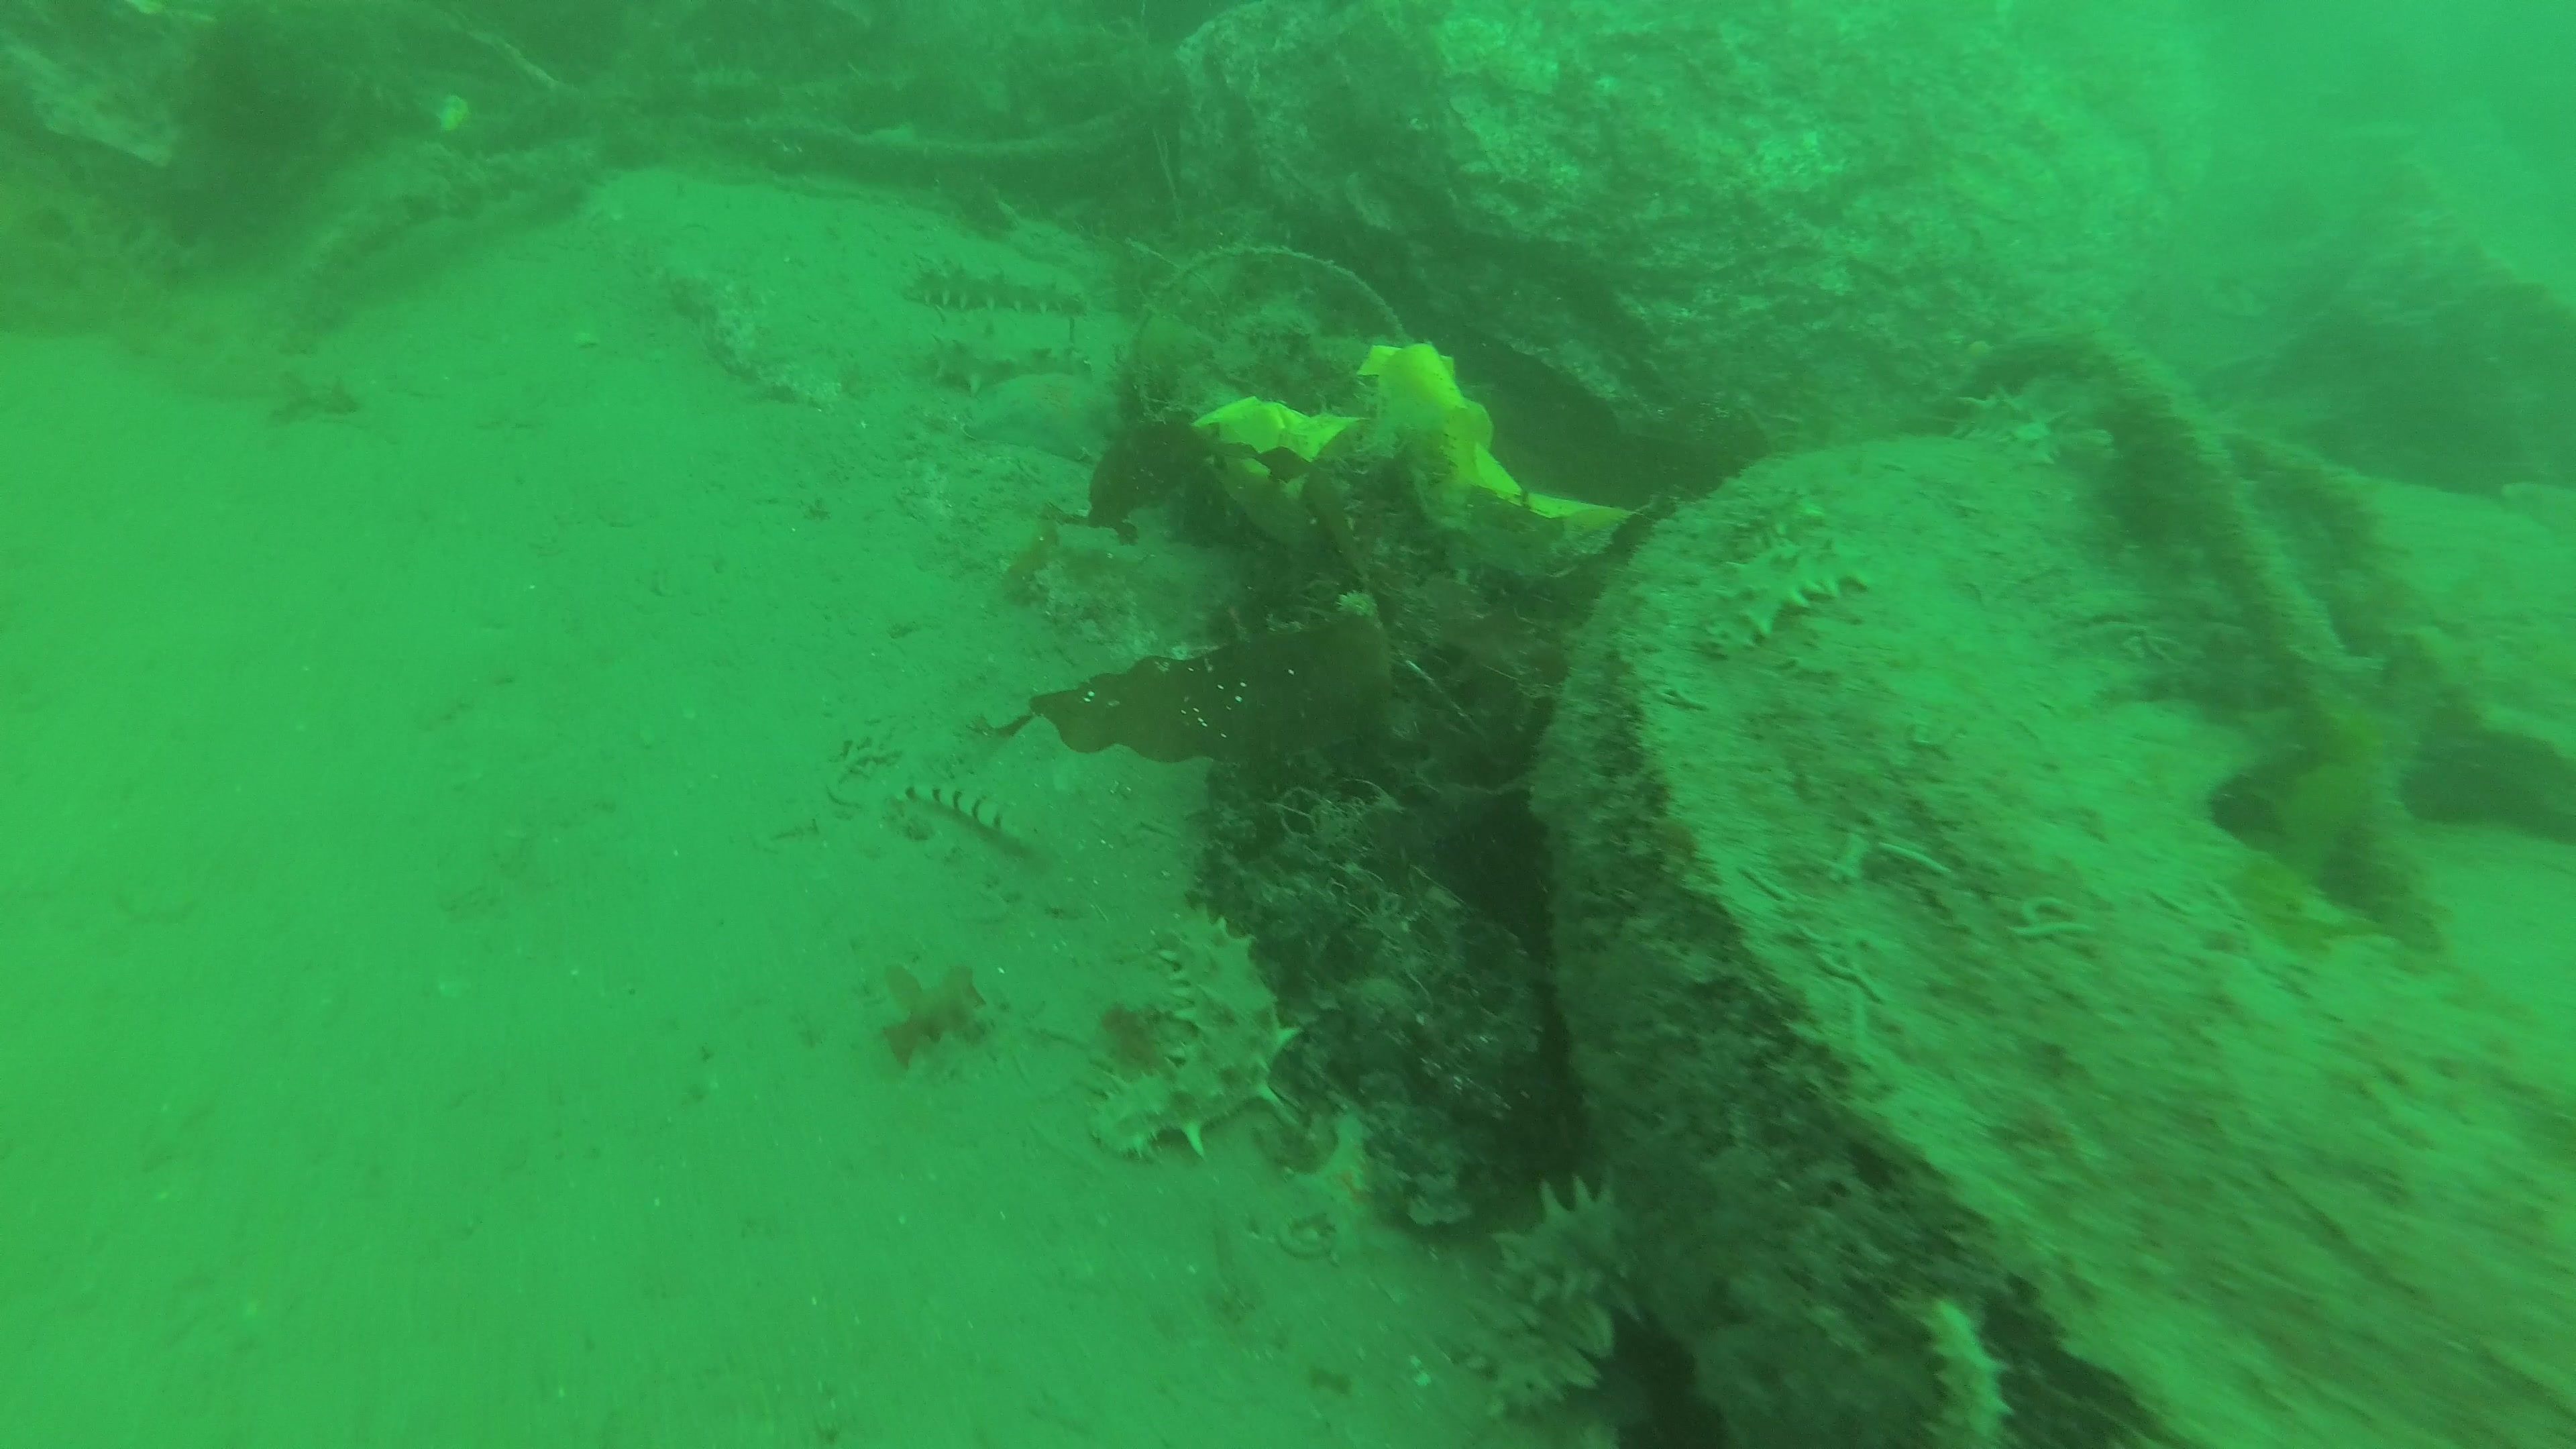holothurian: (1088, 902, 1304, 1166), (1463, 1171, 1626, 1422), (1702, 525, 1882, 658), (1913, 1299, 2019, 1449), (927, 304, 1097, 396), (1946, 384, 2077, 471), (899, 258, 1097, 315)
starfish: (957, 368, 1125, 465), (1290, 1111, 1396, 1244)
